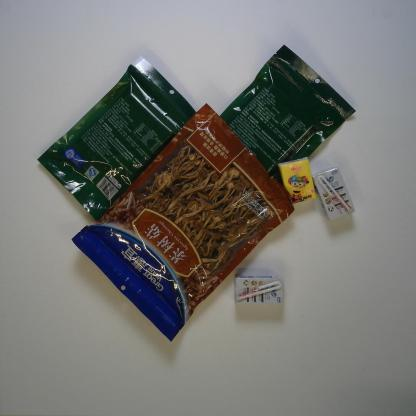Dried Food: (70, 101, 297, 343), (35, 56, 200, 225), (220, 42, 358, 186)
Milk: (312, 164, 356, 222), (233, 276, 286, 307)
Tissue: (277, 154, 317, 206)
